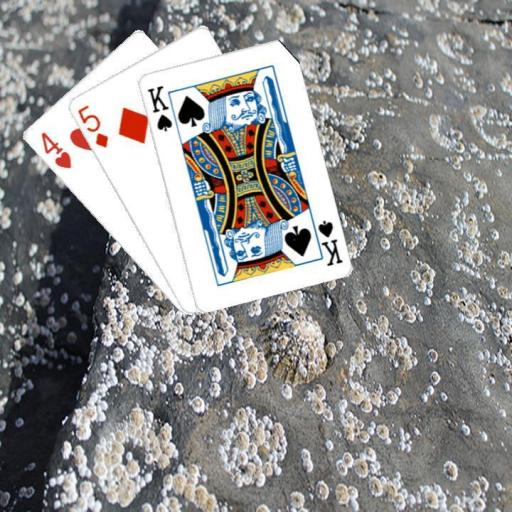card-corner: (308, 215, 343, 267), (74, 102, 109, 149), (144, 82, 174, 133), (37, 129, 73, 170)
